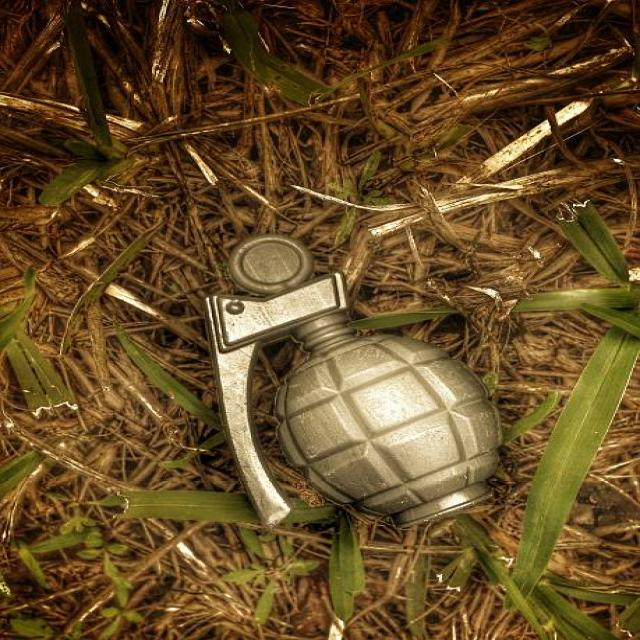grenade: (196, 237, 511, 537)
